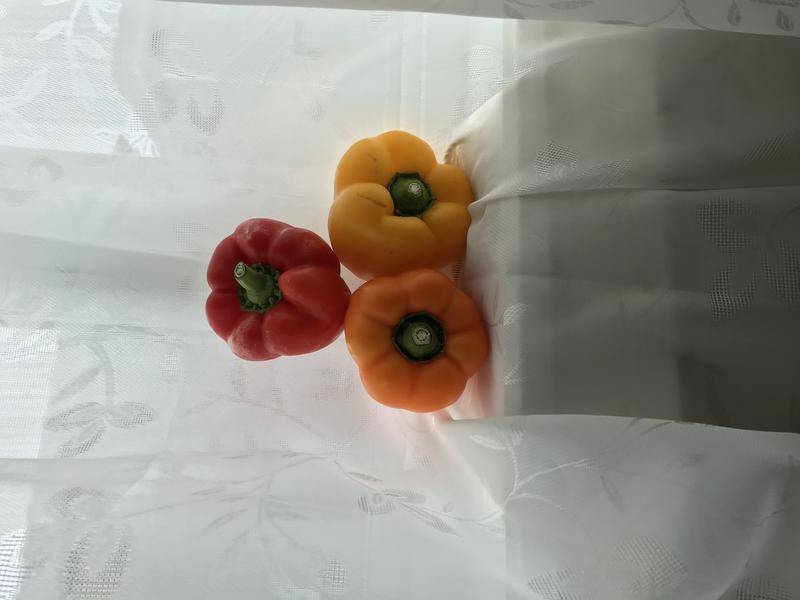orange_pepper: (337, 266, 497, 419)
red_pepper: (200, 212, 358, 378)
yellow_pepper: (323, 118, 486, 283)
